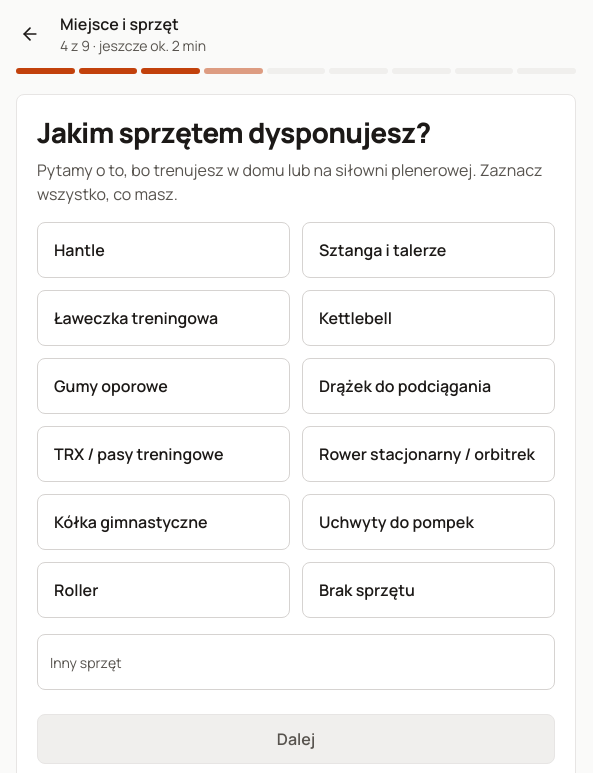
Test case: steps › multi-choice tiles: aria-pressed and a counter on the button
What coordinates should you click on to do the following:
click the button "Hantle"
I would click on:
 (164, 250)
Its box is x1=37 y1=222 x2=290 y2=278.
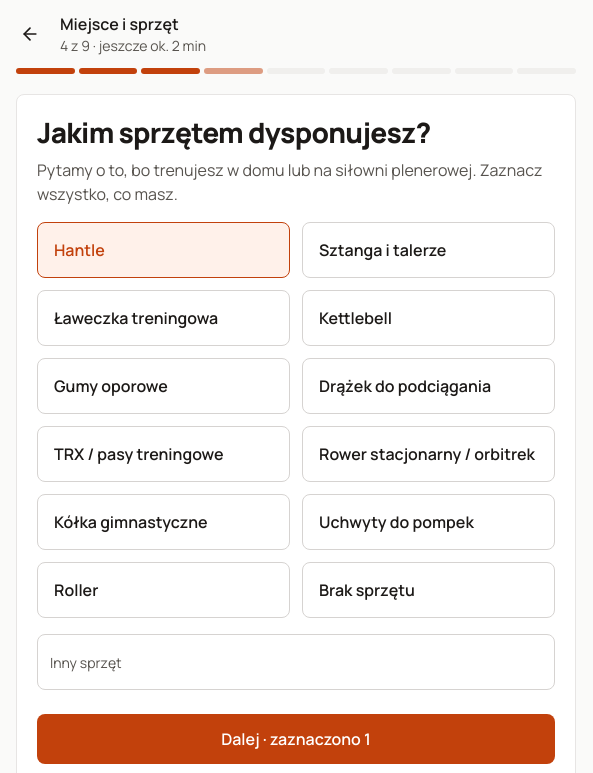
What coordinates should you click on to do the following:
click the button "Kettlebell"
I would click on:
 (428, 318)
Its box is x1=302 y1=290 x2=555 y2=346.
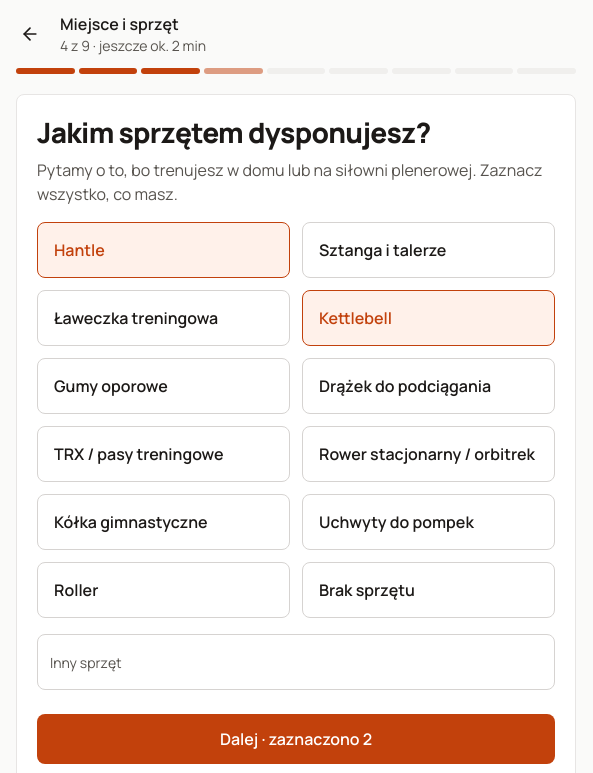
Check: the button with test id "next" reads "Dalej · zaznaczono 2", box x1=37 y1=714 x2=555 y2=764
